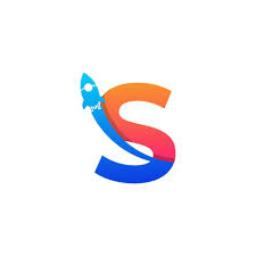s: (92, 78, 178, 188)
